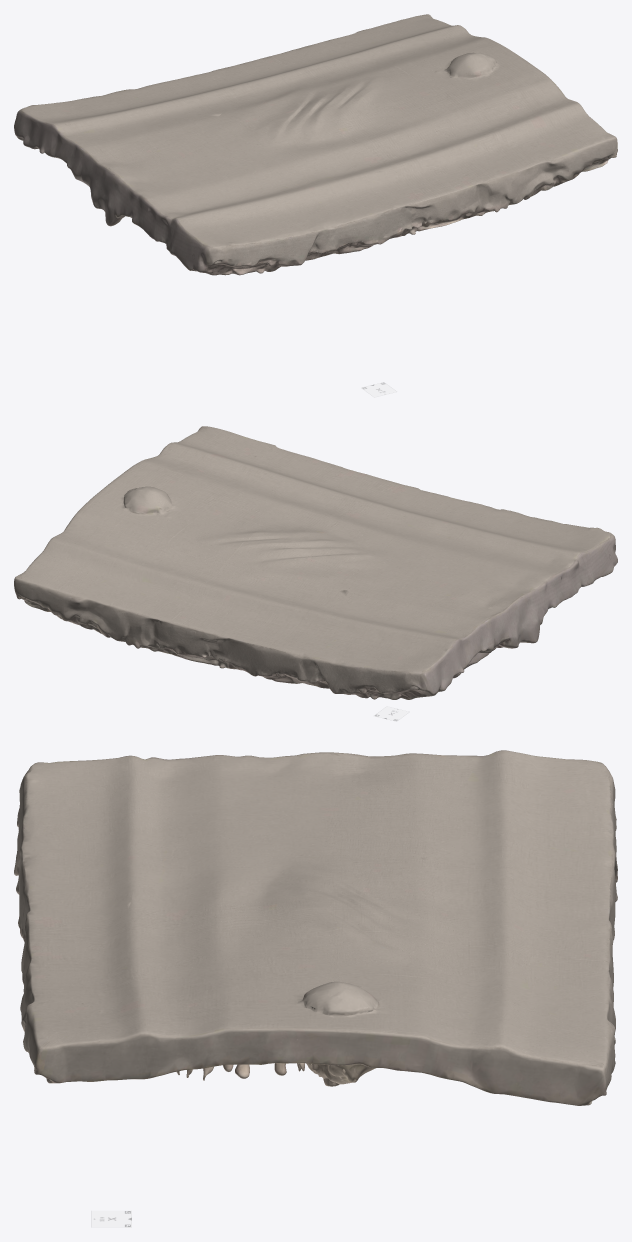
Rendered from project9.glb.
3 renders of one model, top to bottom at view 1: azimuth 30°, elevation 25°; view 2: azimuth 150°, elevation 25°; view 3: azimuth 270°, elevation 25°, orthographic. The views are drawn at different scales.
Visible parts, largest first — view 1: 09PiringerChristopher_GyőriLevente; view 2: 09PiringerChristopher_GyőriLevente; view 3: 09PiringerChristopher_GyőriLevente, TRACK.
Part boxes in pixels (<box>): 09PiringerChristopher_GyőriLevente: <box>14,14,617,275</box>; 09PiringerChristopher_GyőriLevente: <box>14,426,617,699</box>; 09PiringerChristopher_GyőriLevente: <box>14,750,617,1105</box>; TRACK: <box>92,1211,131,1227</box>.
Size of the model in its own units: 9.06 by 4.88 by 7.47.
Materials: 2 (2 with a texture image).
